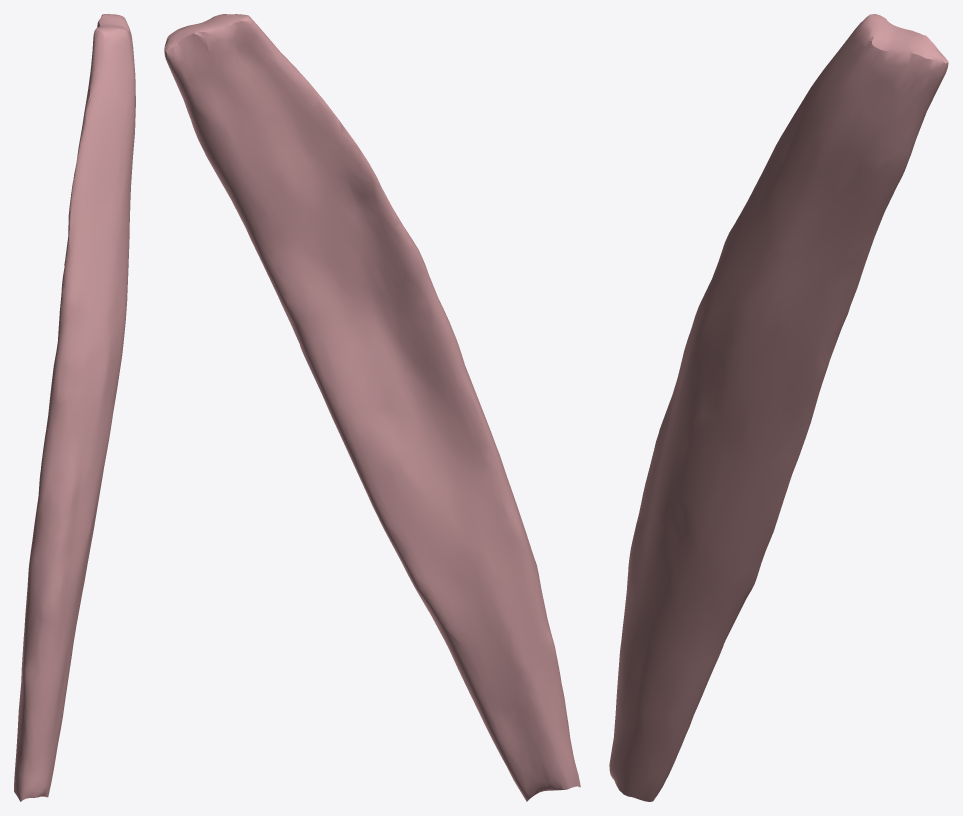
File: fma38597_mm1881.glb
3 renders of one model, left to right at view 1: azimuth 30°, elevation 25°; view 2: azimuth 150°, elevation 25°; view 3: azimuth 270°, elevation 25°, orthographic. The views are drawn at different scales.
Visible parts, largest first — view 1: FMA38597_MM1881; view 2: FMA38597_MM1881; view 3: FMA38597_MM1881.
Boxes of the visible parts, x1,y1,x2,y2 form: FMA38597_MM1881: (14,14,135,801); FMA38597_MM1881: (164,14,580,801); FMA38597_MM1881: (609,14,948,801).
Bounding box in the file's own units: 0.038 × 0.1099 × 0.0384.
